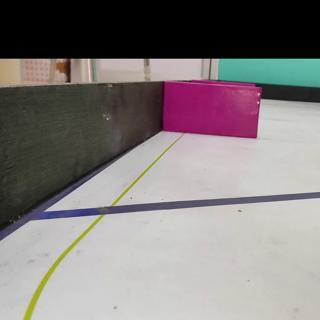xparking: (173, 84, 256, 136)
